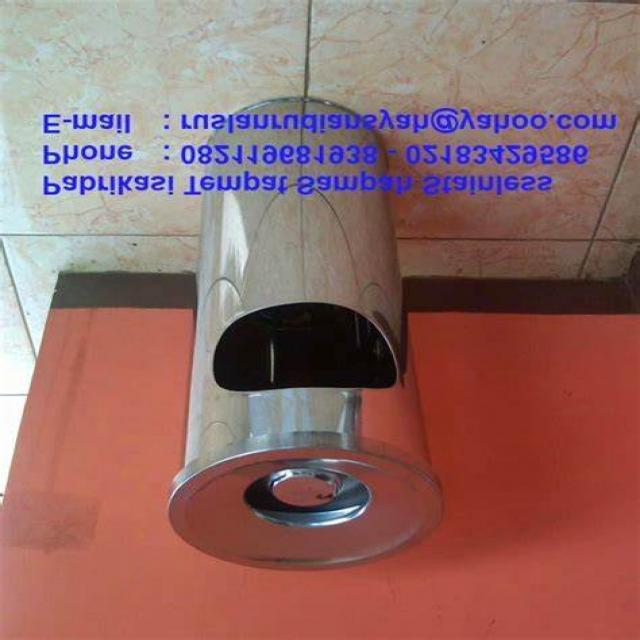garbage container: (139, 203, 552, 584)
